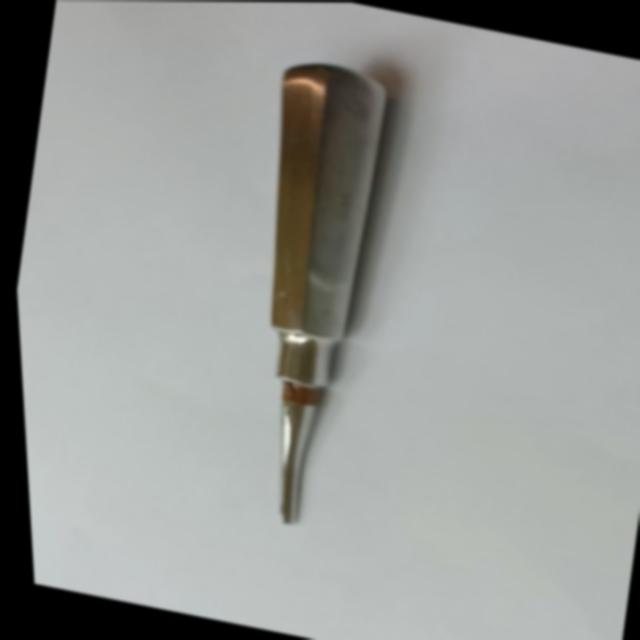Coupland1: (186, 38, 414, 532)
